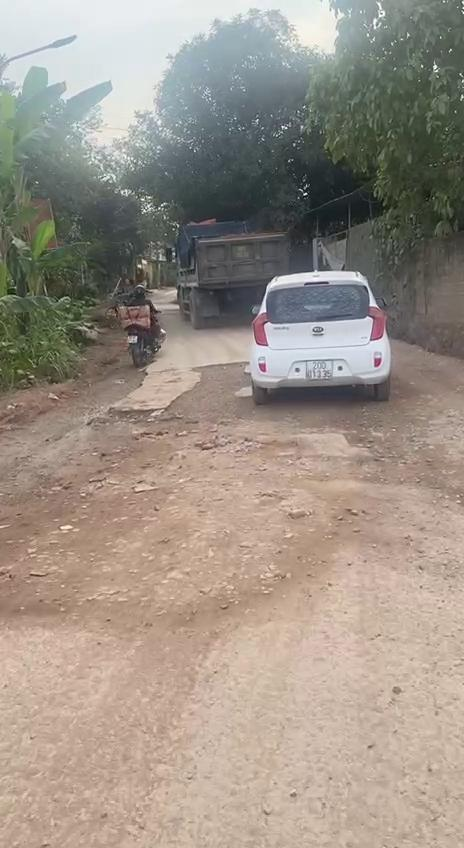pothole: (196, 412, 464, 499), (62, 401, 176, 478), (169, 356, 270, 430)
